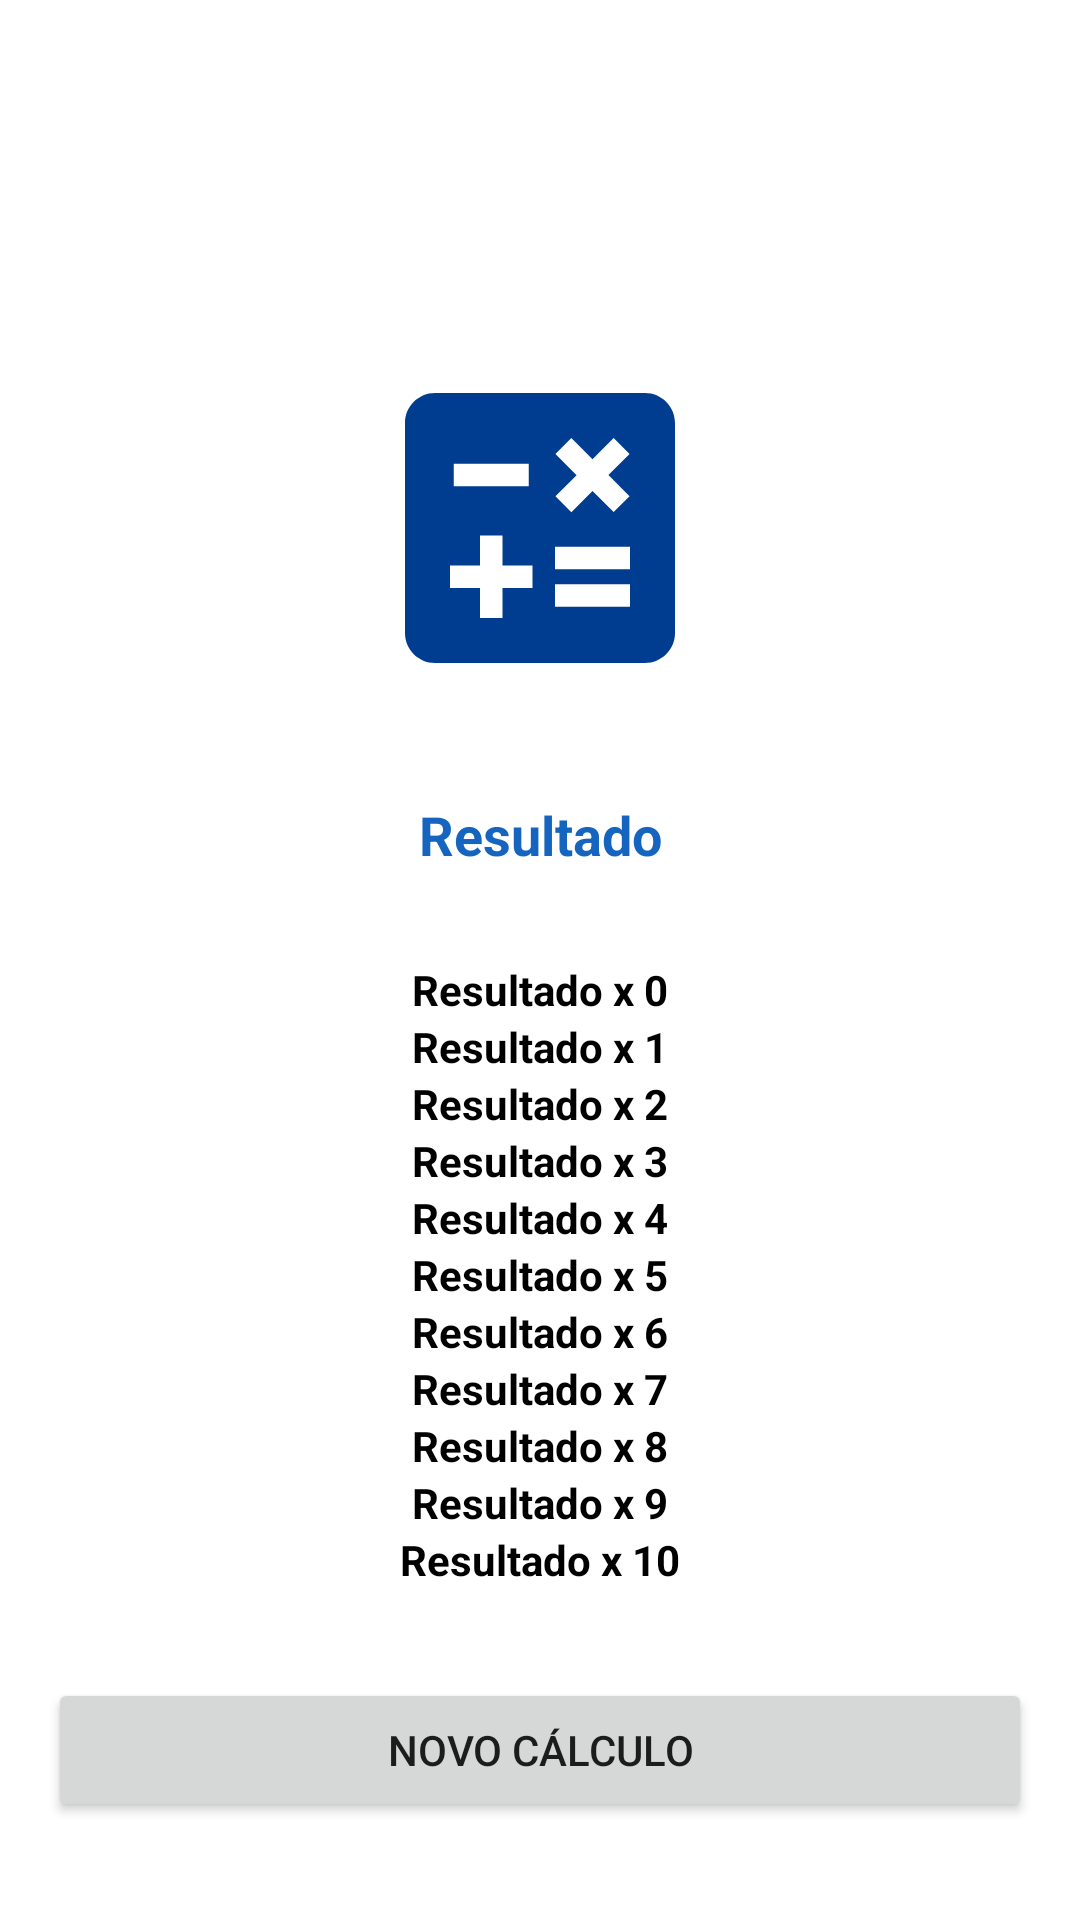

Icons on this 1080 × 1920 Android screen, each with its box as (x1, y1, x2, y2):
calculadora: (405, 393, 675, 663)
